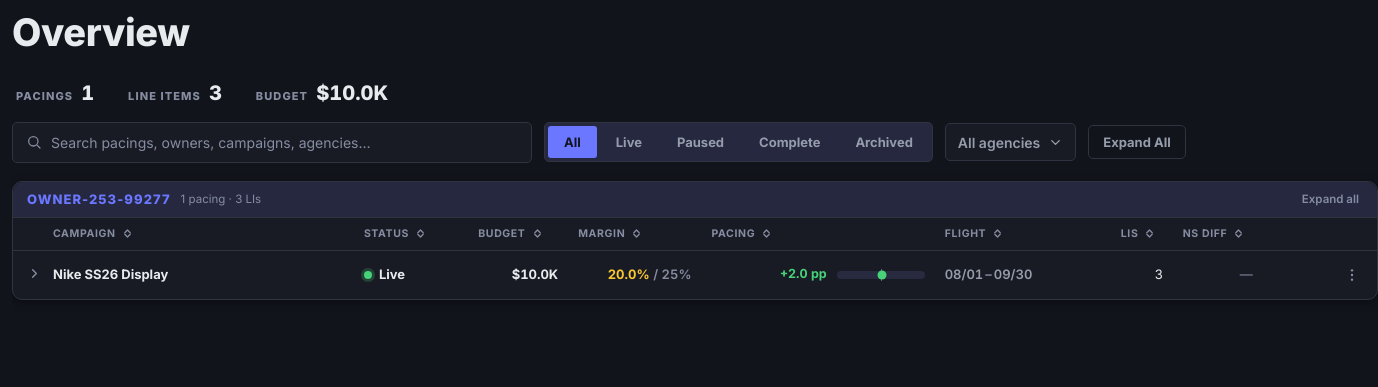
Test case: Overview › should expand a row into its line items, with the heatmap and KPI sparkline
Expected: the text "Nike SS26 Display" is shown, [53,265,168,284]
Expected: the text "599888" is not shown
Click the button named "Expand Nike SS26 Display" at (34, 274), box [23,263,45,285]
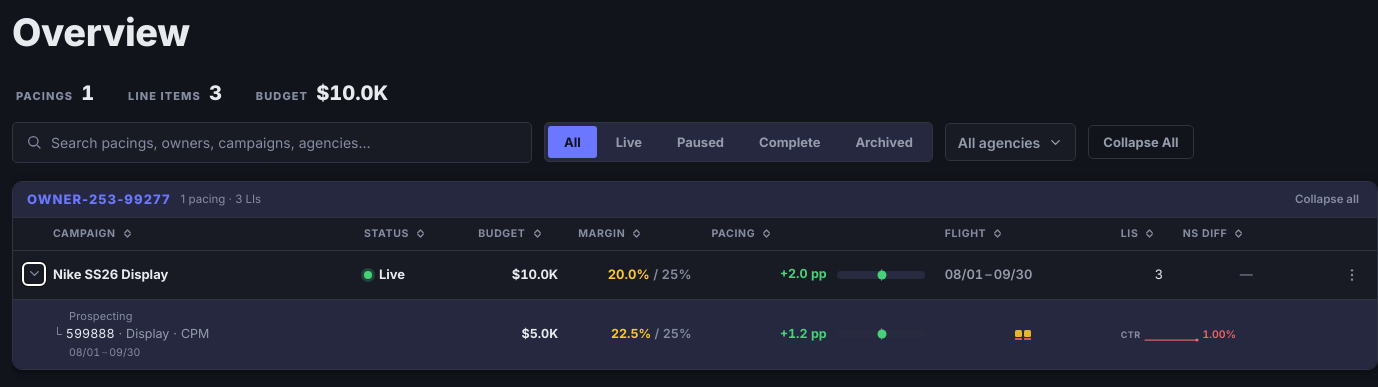
Now the text "599888" is shown, box [66,326,114,341]
Now the text "Prospecting" is shown, box [69,309,132,323]
Now the text "CTR" is shown, box [1121,328,1140,341]
